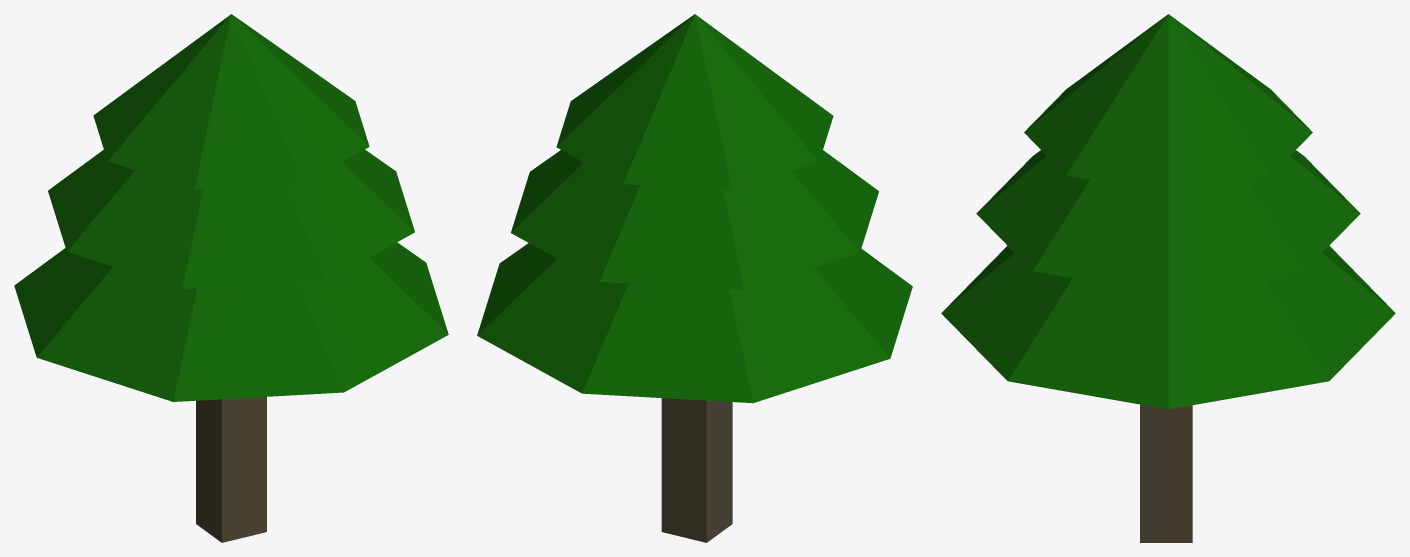
The model's file is TreeLowFBX.fbx.
The picture shows the model from 3 angles, left to right: view 1: azimuth 30°, elevation 25°; view 2: azimuth 150°, elevation 25°; view 3: azimuth 270°, elevation 25°; orthographic projection.
Parts seen in each view (by area): view 1: Tree; view 2: Tree; view 3: Tree.
Part boxes in pixels (x1=…): Tree: x1=14, y1=14, x2=448, y2=542; Tree: x1=477, y1=14, x2=912, y2=542; Tree: x1=941, y1=14, x2=1395, y2=542.
Size of the model in its own units: 647 by 647 by 814.
